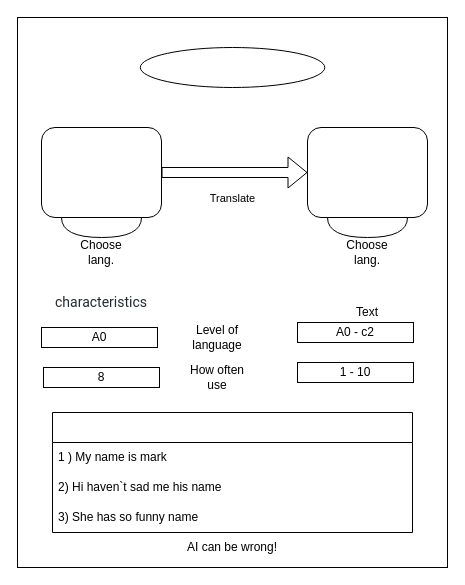
The diagram is 465 pixels wide and 585 high, and some of its shapes have lost their labels. The box of each missing label's shape, as (x1, y1, x2, y2) in pixels:
Enter some text: (40, 126, 162, 218)
Examples: (52, 412, 412, 532)
Translater: (139, 46, 325, 88)
